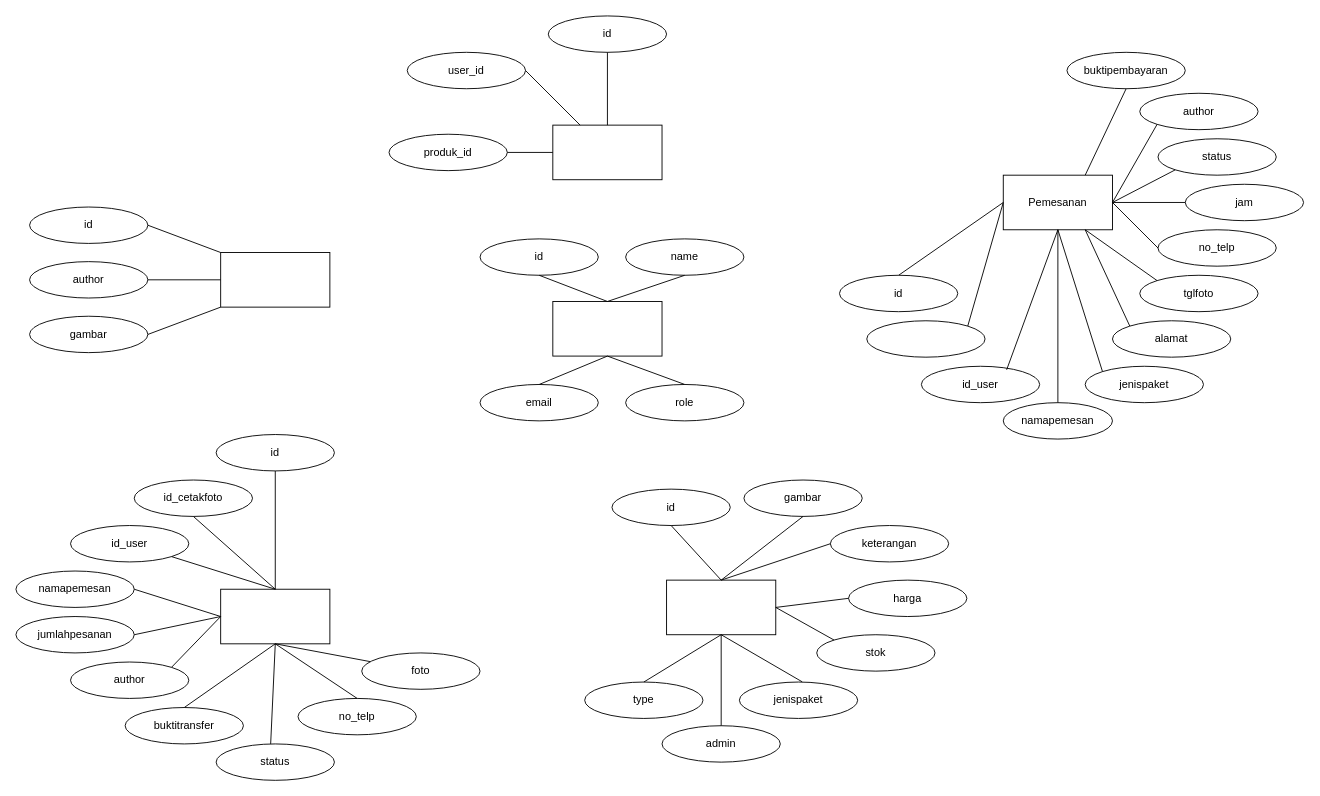
Image size: 1320x796. Some labels were removed from this diagram. Each missing label, with the box of its shape:
Carts: (552, 124, 662, 180)
DetailCetakFoto: (220, 588, 330, 644)
Galeri Foto: (220, 252, 330, 307)
Photo: (666, 579, 776, 635)
photo_id: (866, 320, 985, 357)
User: (552, 301, 662, 356)
